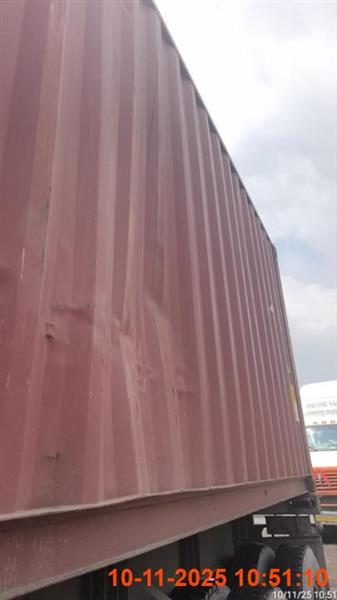rust: (1, 0, 328, 598), (299, 379, 336, 532)
